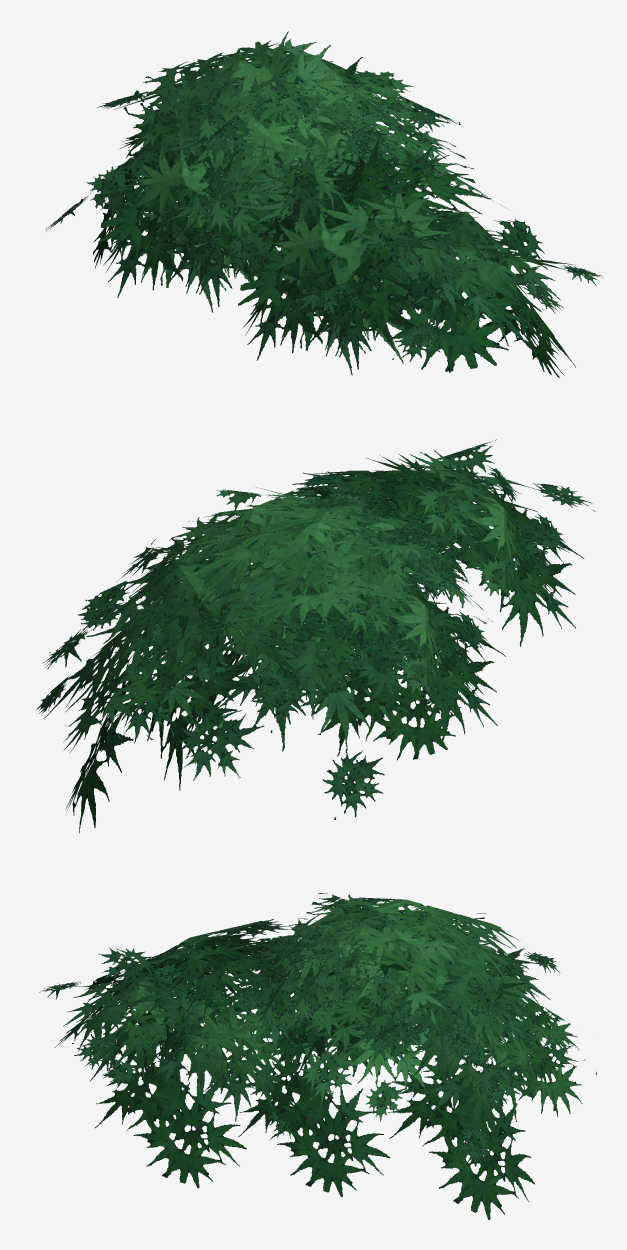
The model's file is Area_08_25.fbx.
3 renders of one model, top to bottom at view 1: azimuth 30°, elevation 25°; view 2: azimuth 150°, elevation 25°; view 3: azimuth 270°, elevation 25°, orthographic. The views are drawn at different scales.
Visible parts, largest first — view 1: Area_08_25; view 2: Area_08_25; view 3: Area_08_25.
Part boxes in pixels (x1=…): Area_08_25: x1=45, y1=31, x2=602, y2=377; Area_08_25: x1=36, y1=439, x2=595, y2=833; Area_08_25: x1=39, y1=893, x2=596, y2=1220.
Bounding box in the file's own units: 415 × 325 × 637.
